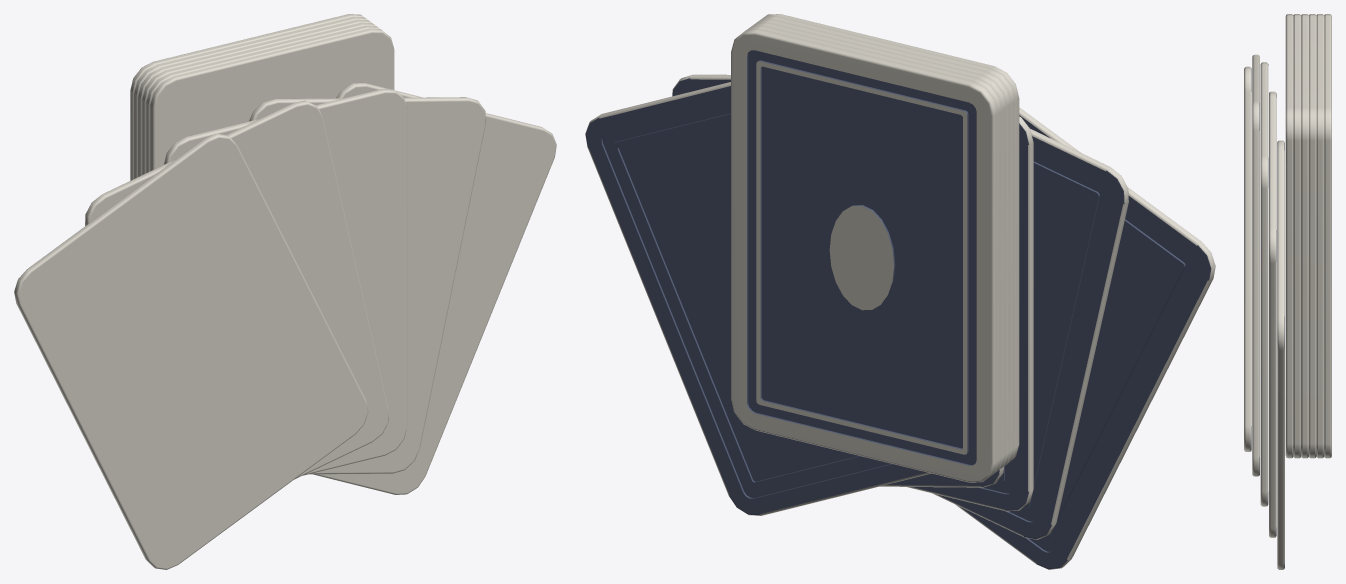
Rendered from w_cards.glb.
3 renders of one model, left to right at view 1: azimuth 30°, elevation 25°; view 2: azimuth 150°, elevation 25°; view 3: azimuth 270°, elevation 25°, orthographic. The views are drawn at different scales.
Parts seen in each view (by area): view 1: fan1_wzN, deck_wzN, fan2_wzN, fan3_wzN, fan4_wzN, fan5_wzN; view 2: deck_wzA, deck_wzN, fan5_wzA, fan2_wzA, fan1_wzA, fan3_wzA, fan1_wzN, fan2_wzN, fan3_wzN, fan5_wzN, fan4_wzA; view 3: deck_wzN, fan3_wzN, fan4_wzN, fan5_wzN, fan2_wzN, fan1_wzN.
Part boxes in pixels (<box>): fan1_wzN: <box>14,133,368,569</box>; deck_wzN: <box>130,14,394,180</box>; fan2_wzN: <box>85,100,389,479</box>; fan3_wzN: <box>164,89,407,475</box>; fan4_wzN: <box>249,97,485,474</box>; fan5_wzN: <box>313,82,556,494</box>; deck_wzA: <box>747,50,976,465</box>; deck_wzN: <box>731,14,1019,482</box>; fan5_wzA: <box>585,86,927,515</box>; fan2_wzA: <box>939,136,1124,539</box>; fan1_wzA: <box>961,115,1211,569</box>; fan3_wzA: <box>913,123,1028,510</box>; fan1_wzN: <box>955,107,1215,569</box>; fan2_wzN: <box>932,129,1128,539</box>; fan3_wzN: <box>907,116,1033,511</box>; fan5_wzN: <box>585,82,931,515</box>; fan4_wzA: <box>672,78,999,486</box>; deck_wzN: <box>1285,14,1331,458</box>; fan3_wzN: <box>1260,62,1268,506</box>; fan4_wzN: <box>1269,91,1276,537</box>; fan5_wzN: <box>1277,140,1284,569</box>; fan2_wzN: <box>1252,54,1259,476</box>; fan1_wzN: <box>1244,66,1251,451</box>.
Bounding box in the file's own units: 0.2078 × 0.1667 × 0.0297.
